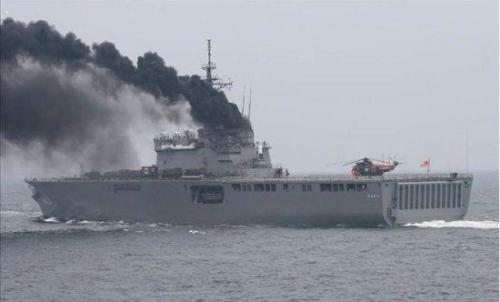smoke: (1, 16, 250, 144)
